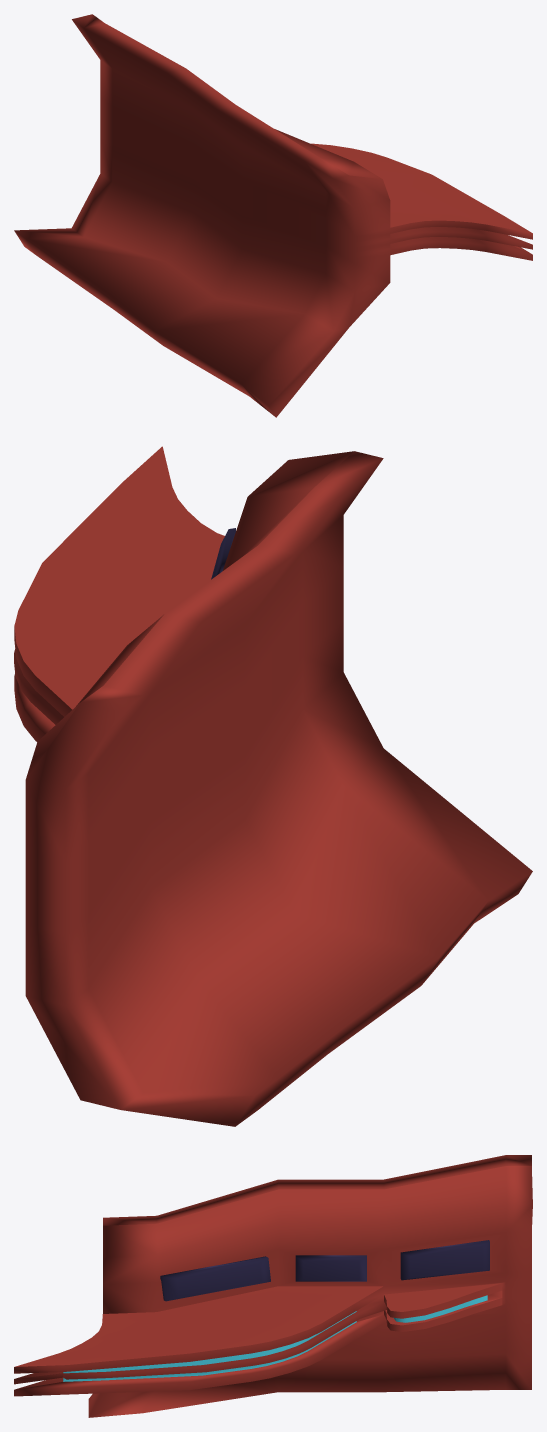
The model's file is shield.fbx.
The picture shows the model from 3 angles, top to bottom: view 1: azimuth 30°, elevation 25°; view 2: azimuth 150°, elevation 25°; view 3: azimuth 270°, elevation 25°; orthographic projection. The views are drawn at different scales.
Parts seen in each view (by area): view 1: Cube.017; view 2: Cube.017; view 3: Cube.017.
Boxes of the visible parts, x1,y1,x2,y2 form: Cube.017: (14,14,532,417); Cube.017: (14,446,532,1126); Cube.017: (14,1155,532,1417).
Size of the model in its own units: 7308 by 6065 by 10807.
